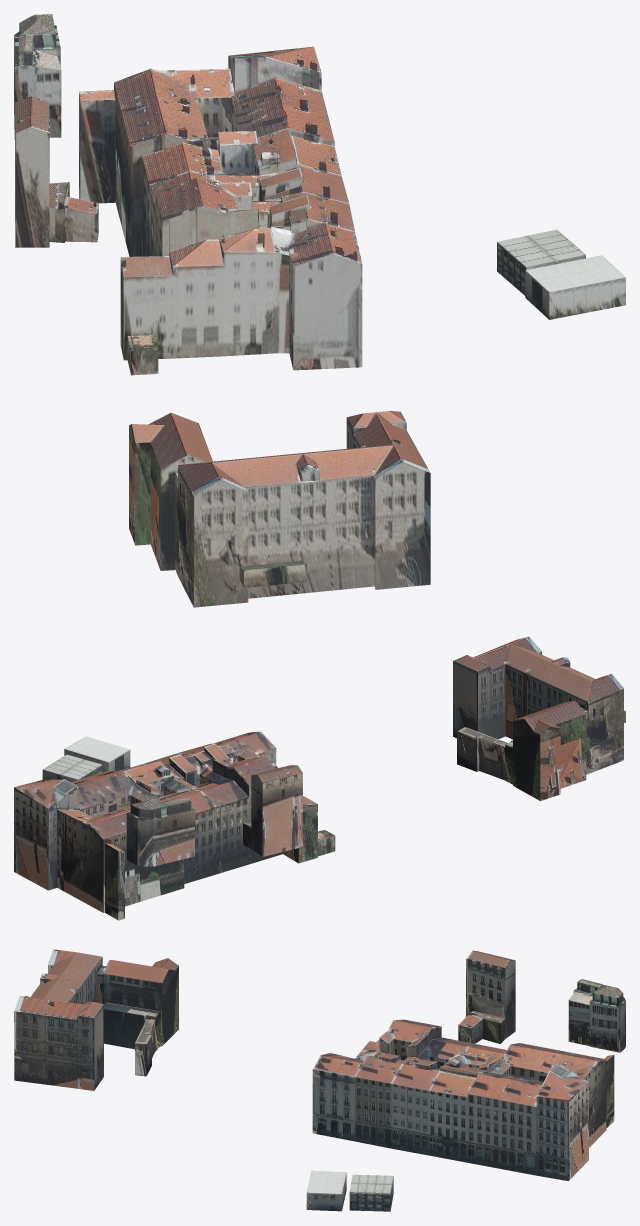
The model's file is LYON_1ER_00013.dae.
3 views of the same model, one above another, from view 1: azimuth 30°, elevation 25°; view 2: azimuth 150°, elevation 25°; view 3: azimuth 270°, elevation 25° (orthographic). The views are drawn at different scales.
Size of the model in its own units: 132 by 178 by 39.05.
Materials: 2 (2 with a texture image).
